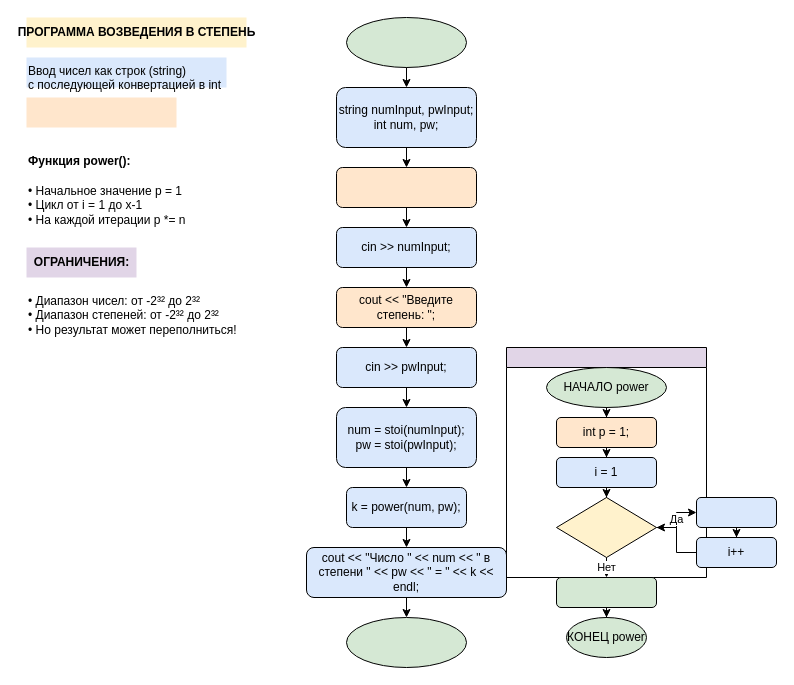
Image size: 794x685. Some labels were removed from this diagram. Each missing label, with the box of its shape:
cout << "Введите число: ";: (336, 166, 476, 208)
i < x ?: (556, 496, 656, 558)
p *= n;: (696, 496, 776, 528)
return 0; КОНЕЦ main(): (346, 616, 466, 668)
return p;: (556, 576, 656, 608)
stoi() - функция конвертации string в integer: (26, 97, 176, 127)
НАЧАЛО main(): (346, 16, 466, 68)
ПОДПРОГРАММА power(int n, int x): (506, 346, 706, 578)
